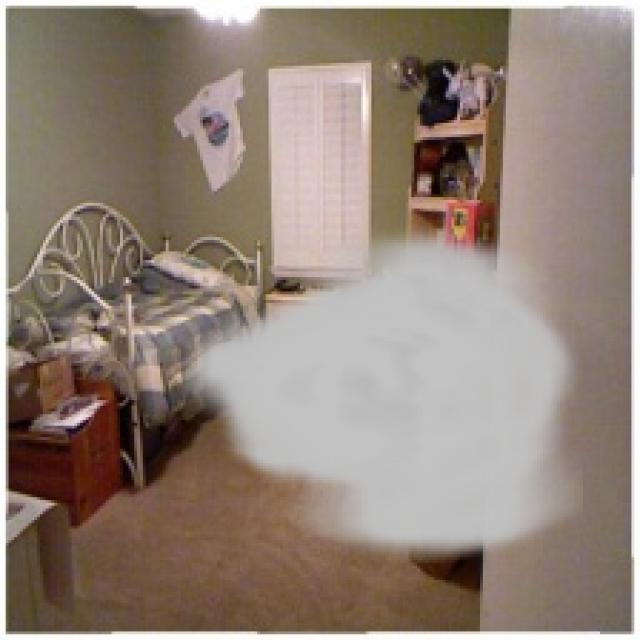smoke: (177, 220, 583, 563)
